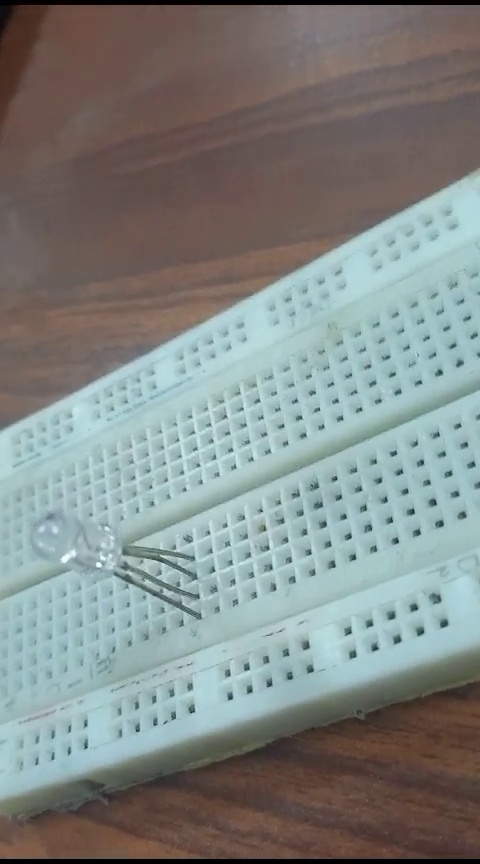LED: (23, 483, 210, 625)
